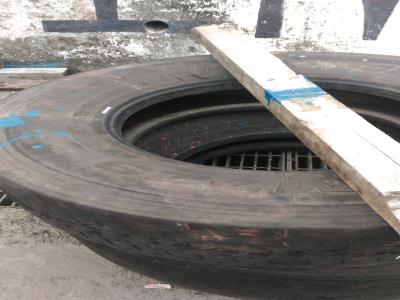tire: (1, 49, 397, 287)
